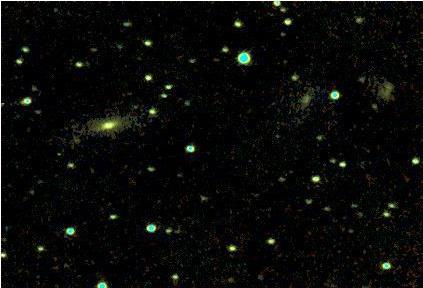star: (42, 137, 72, 167)
